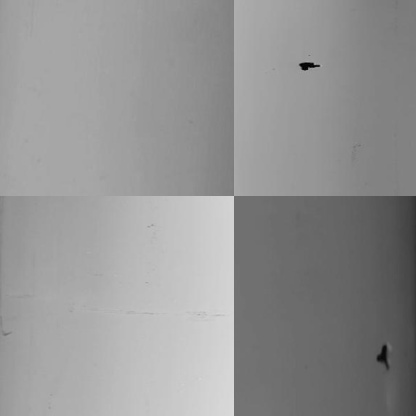kongdong: (373, 340, 393, 373), (297, 58, 319, 71)
